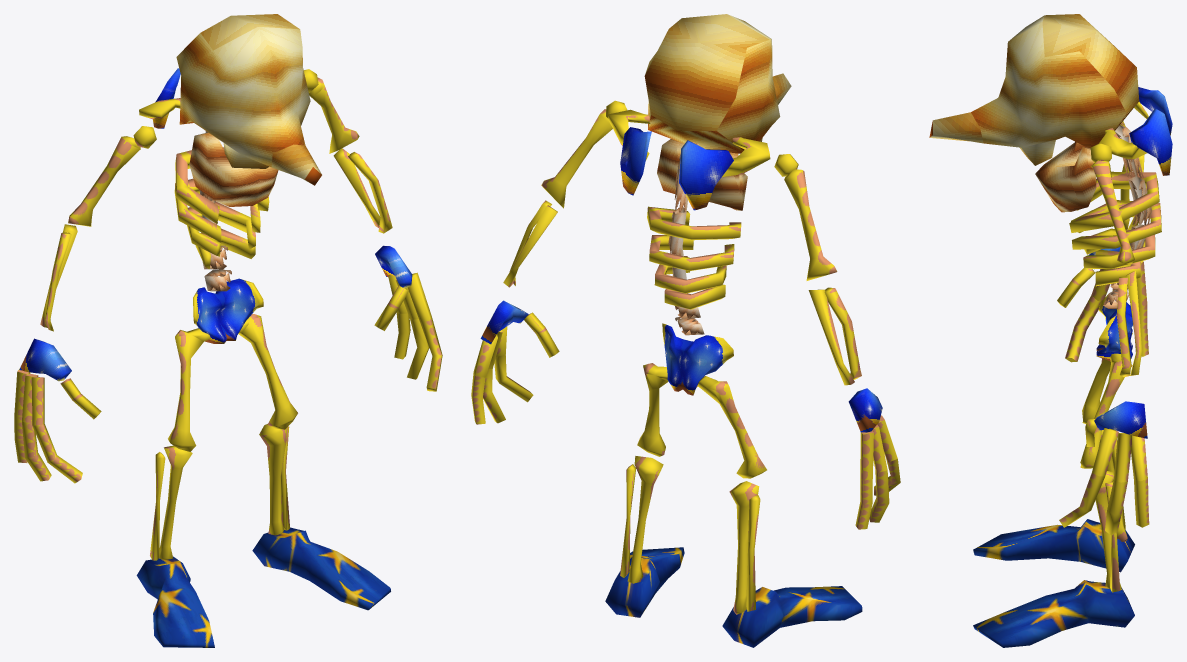
The model's file is CrashSkeleton.obj.
3 renders of one model, left to right at view 1: azimuth 30°, elevation 25°; view 2: azimuth 150°, elevation 25°; view 3: azimuth 270°, elevation 25°, orthographic. The views are drawn at different scales.
Visible parts, largest first — view 1: CrashSkeleton; view 2: CrashSkeleton; view 3: CrashSkeleton.
Part boxes in pixels (<box>): CrashSkeleton: <box>14,14,442,647</box>; CrashSkeleton: <box>471,14,900,647</box>; CrashSkeleton: <box>929,14,1172,647</box>.
Size of the model in its own units: 64.19 by 87.55 by 33.7.
Materials: 6 (6 with a texture image).
